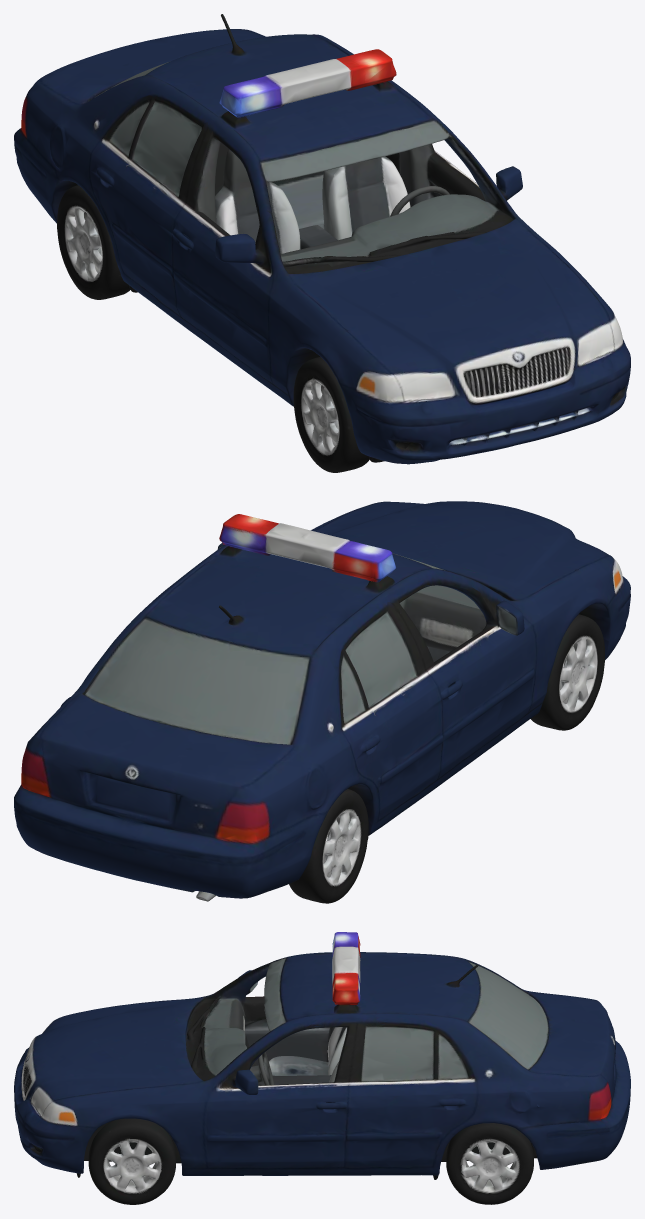
File: 032_detective_unmarked.glb
The picture shows the model from 3 angles, top to bottom: view 1: azimuth 30°, elevation 25°; view 2: azimuth 150°, elevation 25°; view 3: azimuth 270°, elevation 25°; orthographic projection. The views are drawn at different scales.
Visible parts, largest first — view 1: geometry_0; view 2: geometry_0; view 3: geometry_0.
Part boxes in pixels (bbox=[...]): geometry_0: bbox=[14, 14, 630, 472]; geometry_0: bbox=[14, 501, 630, 903]; geometry_0: bbox=[14, 932, 630, 1204].
Size of the model in its own units: 2.14 by 1.79 by 5.
Materials: 1 (1 with a texture image).
